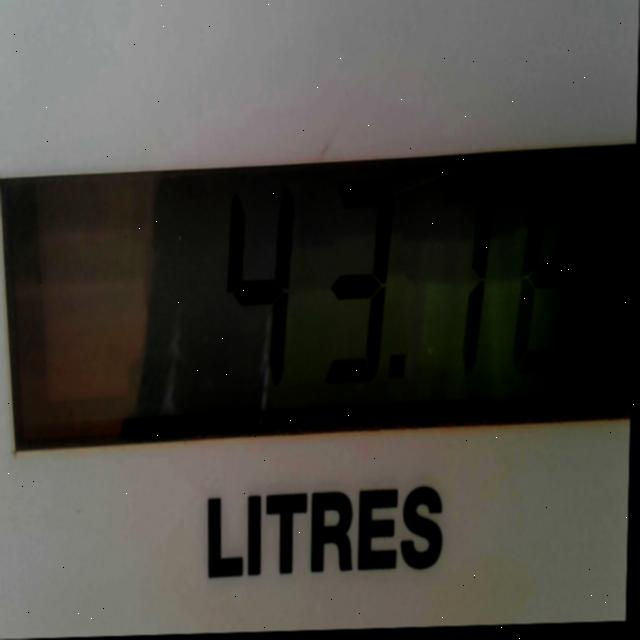.: (381, 333, 415, 399)
3: (321, 174, 400, 397)
4: (211, 180, 318, 398)
7: (420, 165, 505, 397)
8: (510, 162, 602, 395)
